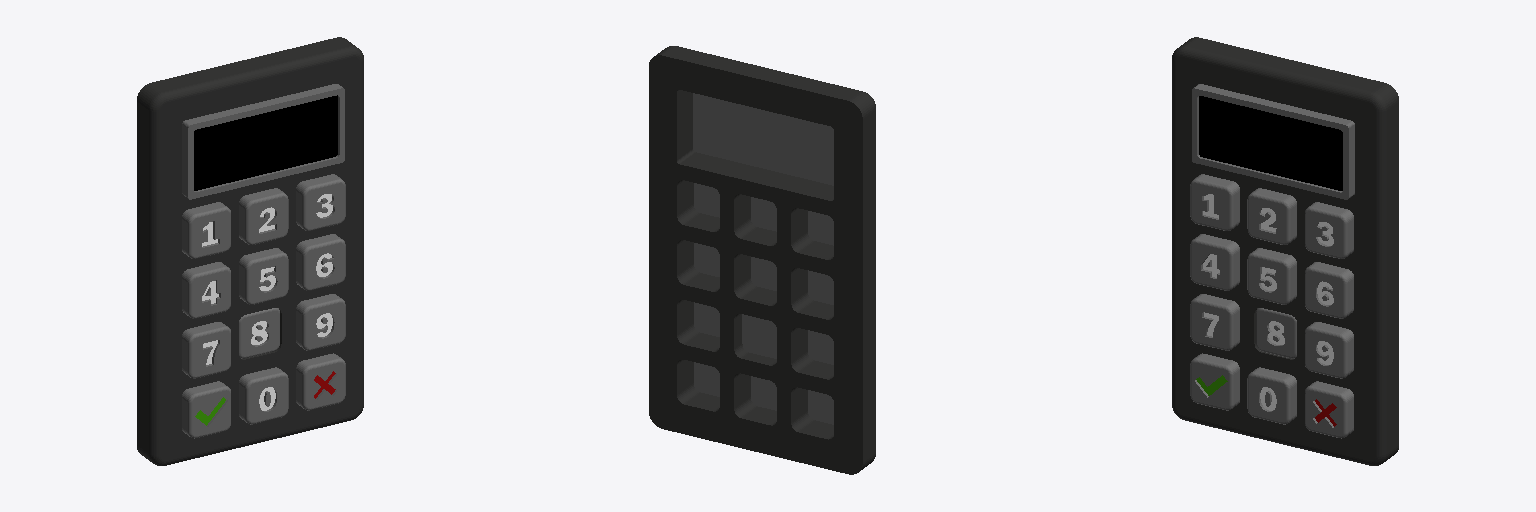
File: keypad.obj
The picture shows the model from 3 angles: view 1: azimuth 30°, elevation 25°; view 2: azimuth 150°, elevation 25°; view 3: azimuth 330°, elevation 25°; orthographic projection.
Visible parts, largest first — view 1: Keypad_v3_Keypad_v3_Plate, Keypad_v3_Keypad_v3_Screen, Keypad_v3_Keypad_v3_9_Button, Keypad_v3_Keypad_v3_6_Button, Keypad_v3_Keypad_v3_3_Button, Keypad_v3_Keypad_v3_X_Button, Keypad_v3_Keypad_v3_0_Button, Keypad_v3_Keypad_v3_5_Button, Keypad_v3_Keypad_v3_2_Button, Keypad_v3_Keypad_v3_4_Button, Keypad_v3_Keypad_v3_Check_Button, Keypad_v3_Keypad_v3_7_Button (+2 smaller); view 2: Keypad_v3_Keypad_v3_Plate, Keypad_v3_Keypad_v3_Screen, Keypad_v3_Keypad_v3_8_Button, Keypad_v3_Keypad_v3_2_Button, Keypad_v3_Keypad_v3_1_Button, Keypad_v3_Keypad_v3_X_Button, Keypad_v3_Keypad_v3_Check_Button, Keypad_v3_Keypad_v3_9_Button, Keypad_v3_Keypad_v3_7_Button, Keypad_v3_Keypad_v3_4_Button, Keypad_v3_Keypad_v3_3_Button, Keypad_v3_Keypad_v3_0_Button (+2 smaller); view 3: Keypad_v3_Keypad_v3_Plate, Keypad_v3_Keypad_v3_Screen, Keypad_v3_Keypad_v3_7_Button, Keypad_v3_Keypad_v3_4_Button, Keypad_v3_Keypad_v3_Check_Button, Keypad_v3_Keypad_v3_1_Button, Keypad_v3_Keypad_v3_0_Button, Keypad_v3_Keypad_v3_5_Button, Keypad_v3_Keypad_v3_2_Button, Keypad_v3_Keypad_v3_6_Button, Keypad_v3_Keypad_v3_X_Button, Keypad_v3_Keypad_v3_9_Button (+2 smaller).
Part boxes in pixels (x1,y1,x2,y2): Keypad_v3_Keypad_v3_Plate: (137, 37, 363, 465); Keypad_v3_Keypad_v3_Screen: (182, 84, 344, 199); Keypad_v3_Keypad_v3_9_Button: (296, 294, 345, 350); Keypad_v3_Keypad_v3_6_Button: (296, 234, 345, 290); Keypad_v3_Keypad_v3_3_Button: (296, 174, 345, 230); Keypad_v3_Keypad_v3_X_Button: (296, 353, 345, 410); Keypad_v3_Keypad_v3_0_Button: (239, 367, 288, 424); Keypad_v3_Keypad_v3_5_Button: (239, 248, 288, 304); Keypad_v3_Keypad_v3_2_Button: (239, 188, 288, 244); Keypad_v3_Keypad_v3_4_Button: (182, 262, 230, 318); Keypad_v3_Keypad_v3_Check_Button: (182, 381, 230, 438); Keypad_v3_Keypad_v3_7_Button: (182, 322, 230, 378); Keypad_v3_Keypad_v3_Plate: (649, 46, 875, 474); Keypad_v3_Keypad_v3_Screen: (693, 93, 833, 185); Keypad_v3_Keypad_v3_8_Button: (742, 314, 776, 358); Keypad_v3_Keypad_v3_2_Button: (751, 197, 776, 231); Keypad_v3_Keypad_v3_1_Button: (808, 211, 833, 245); Keypad_v3_Keypad_v3_X_Button: (694, 362, 719, 396); Keypad_v3_Keypad_v3_Check_Button: (808, 390, 833, 424); Keypad_v3_Keypad_v3_9_Button: (694, 302, 719, 336); Keypad_v3_Keypad_v3_7_Button: (808, 330, 833, 364); Keypad_v3_Keypad_v3_4_Button: (808, 270, 833, 304); Keypad_v3_Keypad_v3_3_Button: (694, 183, 719, 217); Keypad_v3_Keypad_v3_0_Button: (751, 376, 776, 410); Keypad_v3_Keypad_v3_Plate: (1172, 37, 1398, 465); Keypad_v3_Keypad_v3_Screen: (1192, 84, 1354, 199); Keypad_v3_Keypad_v3_7_Button: (1190, 294, 1239, 350); Keypad_v3_Keypad_v3_4_Button: (1190, 234, 1239, 290); Keypad_v3_Keypad_v3_Check_Button: (1190, 353, 1239, 410); Keypad_v3_Keypad_v3_1_Button: (1190, 174, 1239, 230); Keypad_v3_Keypad_v3_0_Button: (1247, 367, 1296, 424); Keypad_v3_Keypad_v3_5_Button: (1247, 248, 1296, 304); Keypad_v3_Keypad_v3_2_Button: (1247, 188, 1296, 244); Keypad_v3_Keypad_v3_6_Button: (1305, 262, 1353, 318); Keypad_v3_Keypad_v3_X_Button: (1305, 381, 1353, 438); Keypad_v3_Keypad_v3_9_Button: (1305, 322, 1353, 378).
Bounding box in the file's own units: 75 × 125 × 15.